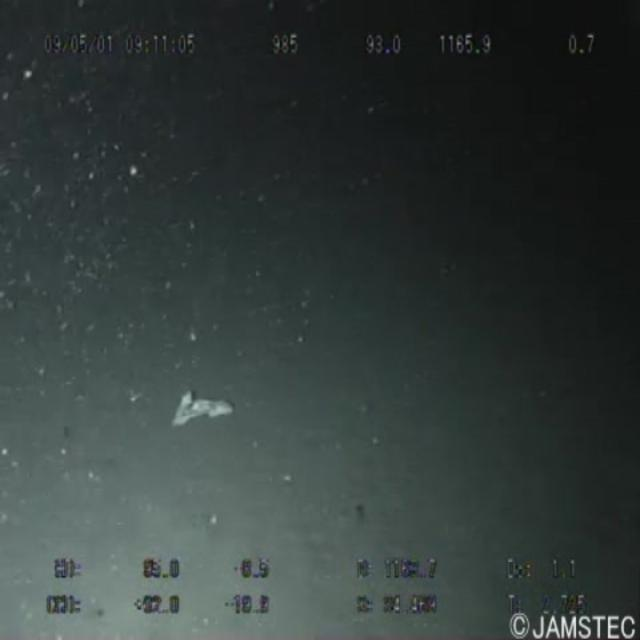Plastic: (172, 381, 240, 441)
